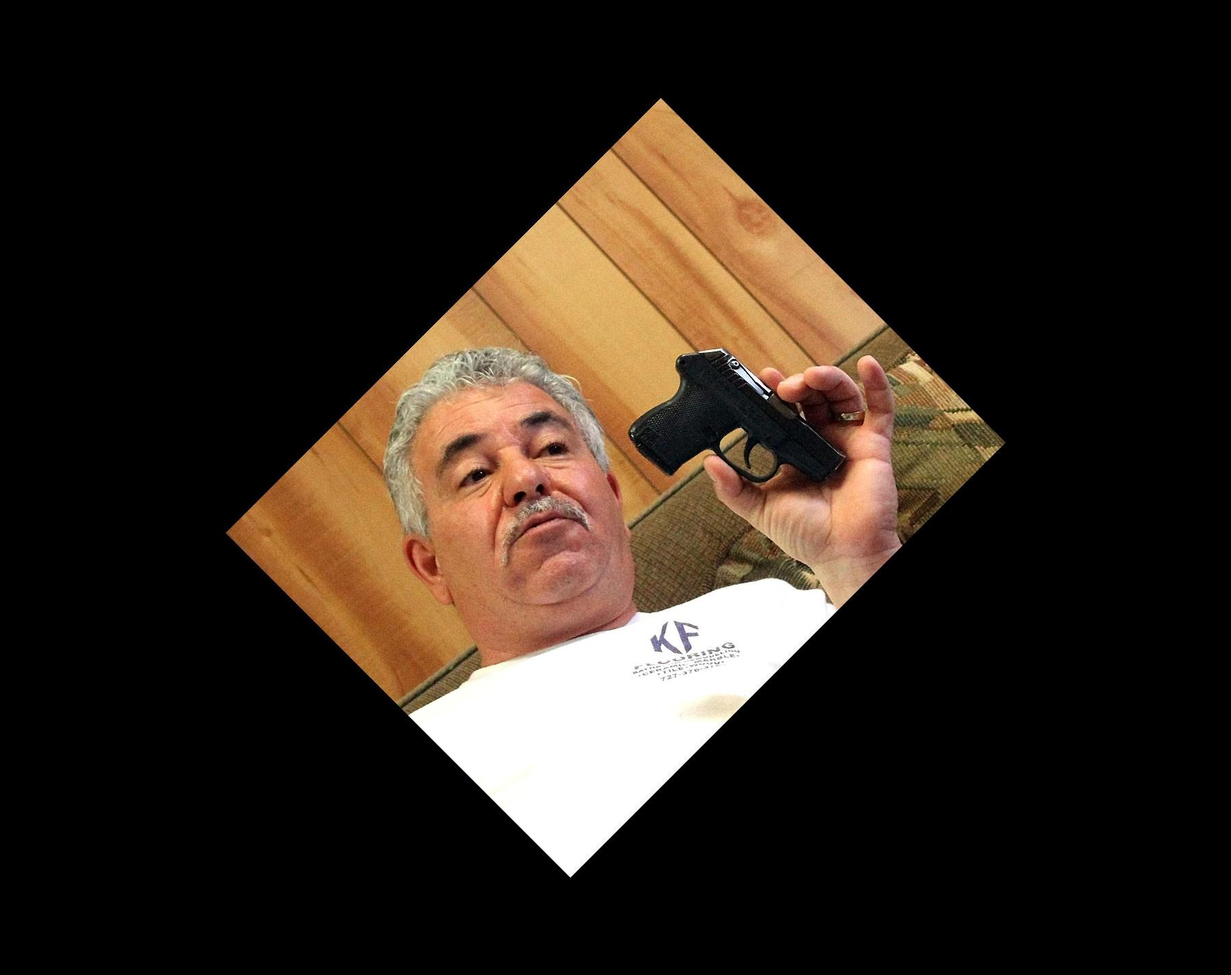weapon: (628, 345, 848, 499)
